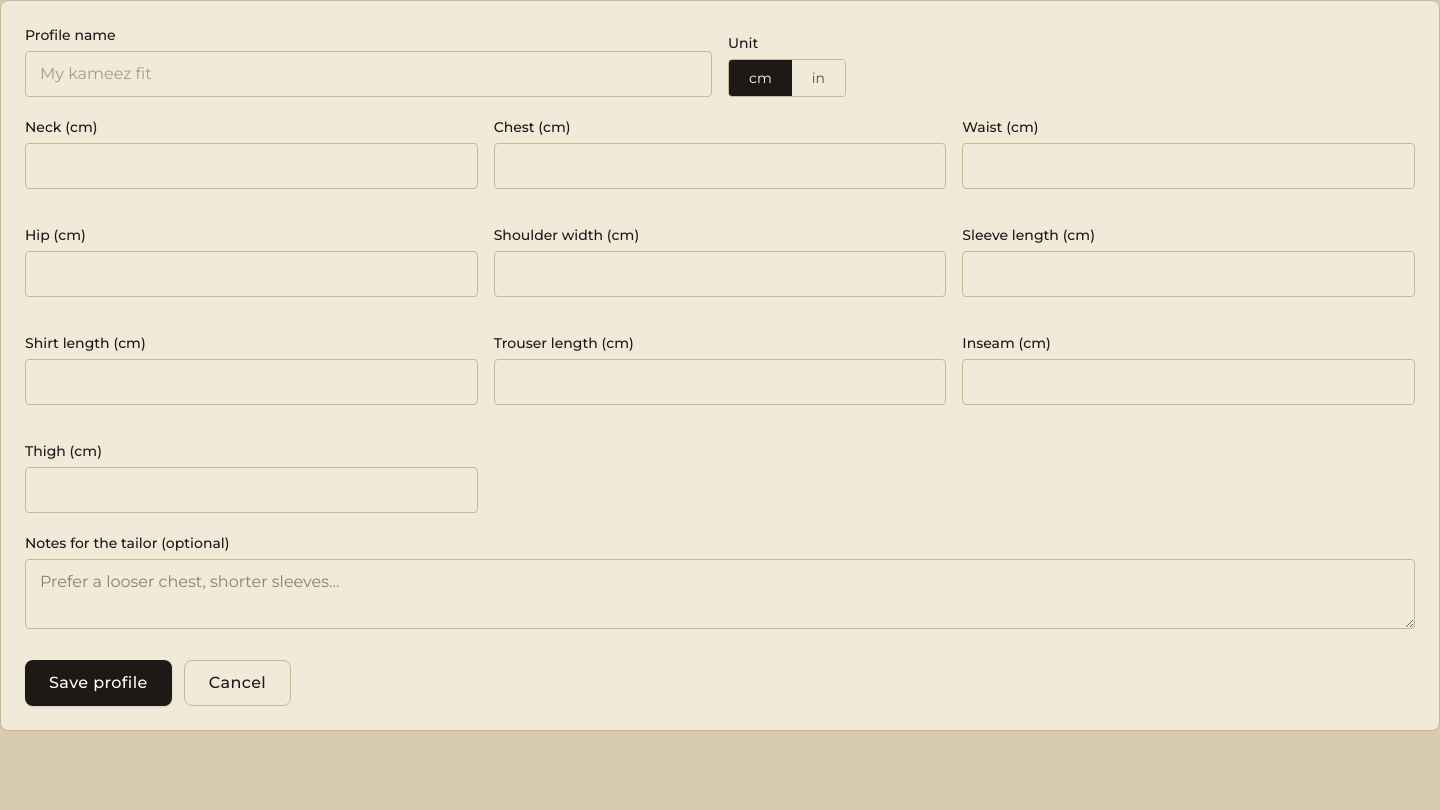
Test: MeasurementForm › requires a label
In the number field labelled "Chest (cm)": (720, 166) [494, 143, 946, 189], type "102"
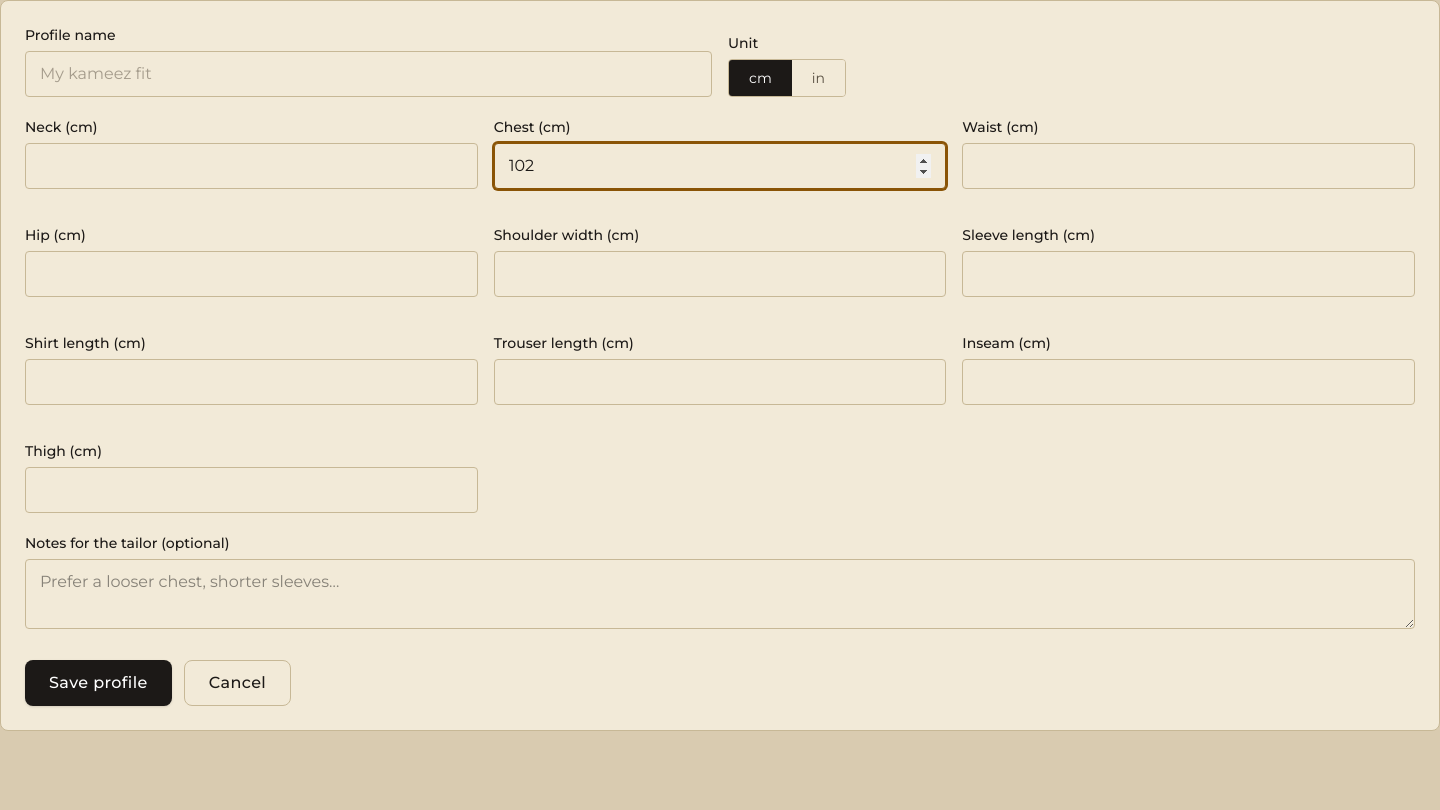
Click the button "Save profile": (98, 683) [25, 660, 172, 706]
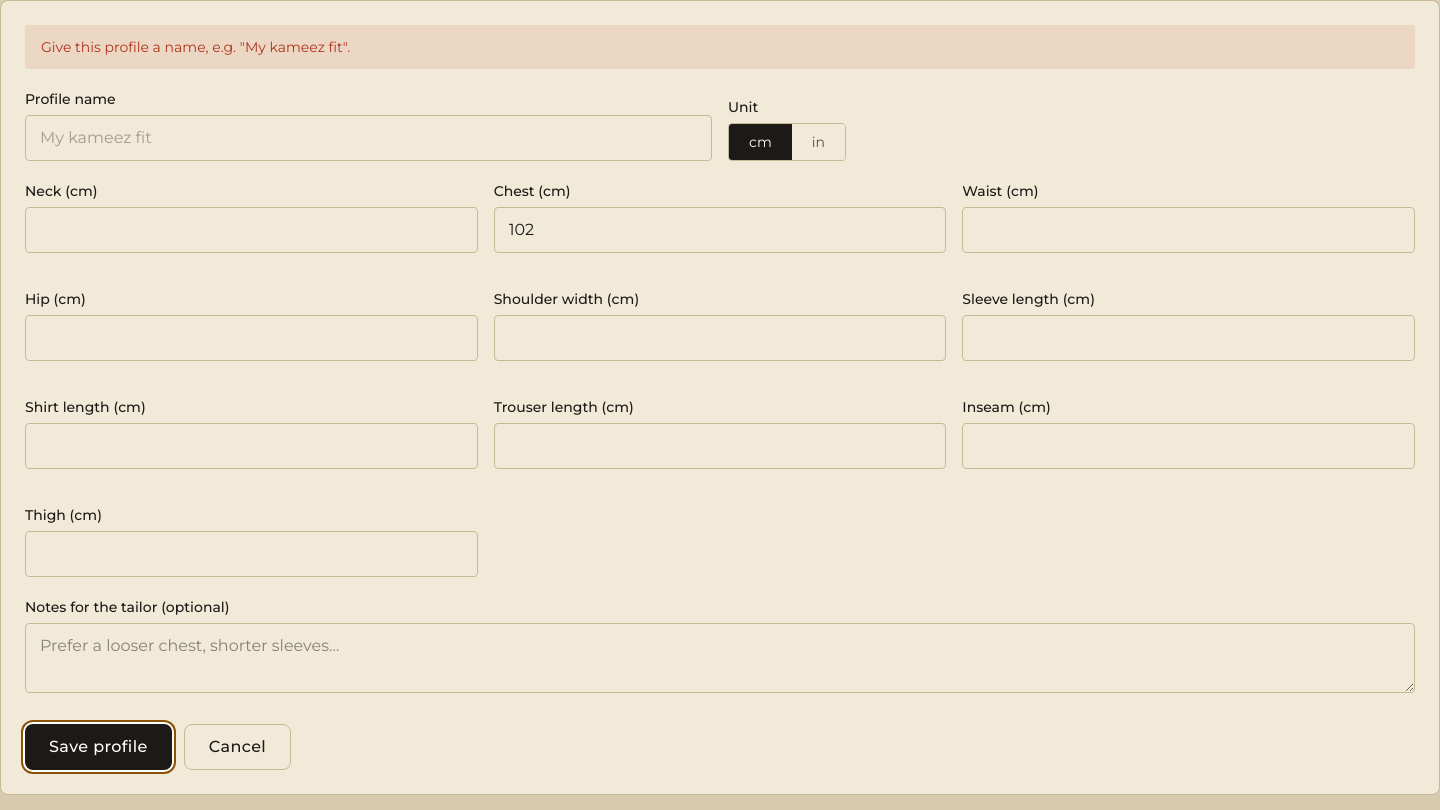
Result: the message shows "profile a name" at [41, 38, 350, 56]
